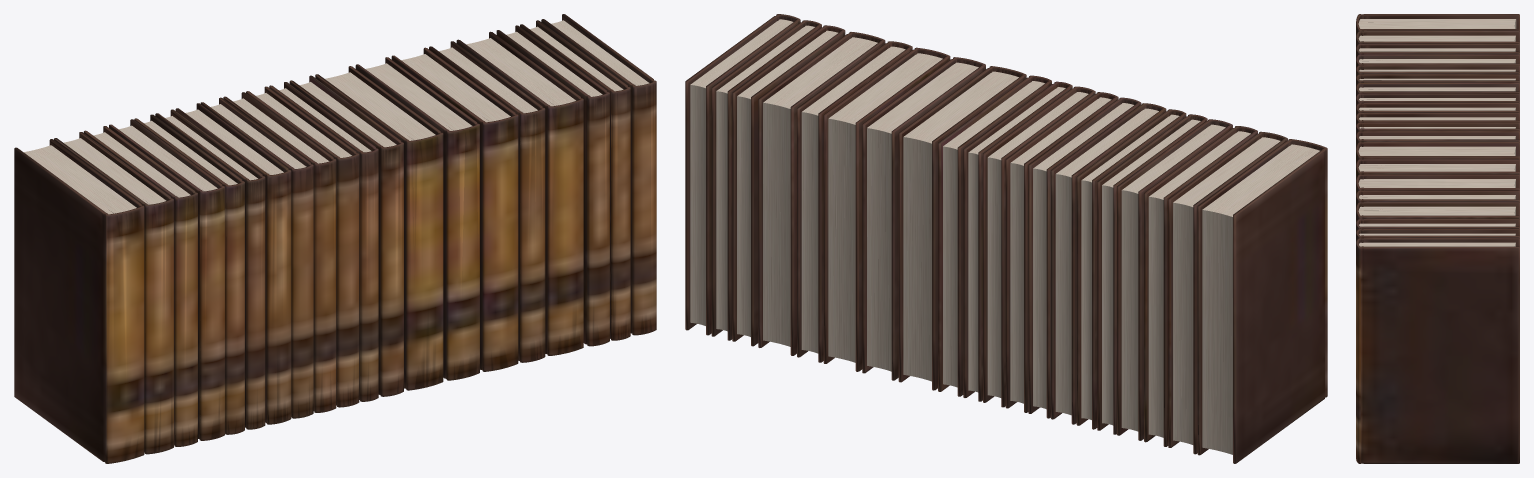
File: books.glb
3 renders of one model, left to right at view 1: azimuth 30°, elevation 25°; view 2: azimuth 150°, elevation 25°; view 3: azimuth 270°, elevation 25°, orthographic. The views are drawn at different scales.
Visible parts, largest first — view 1: book_encyclopedia_set_01_book01, book_encyclopedia_set_01_book13, book_encyclopedia_set_01_book15, book_encyclopedia_set_01_book17, book_encyclopedia_set_01_book14, book_encyclopedia_set_01_book02, book_encyclopedia_set_01_book16, book_encyclopedia_set_01_book04, book_encyclopedia_set_01_book18, book_encyclopedia_set_01_book20, book_encyclopedia_set_01_book07, book_encyclopedia_set_01_book12 (+8 smaller); view 2: book_encyclopedia_set_01_book01, book_encyclopedia_set_01_book13, book_encyclopedia_set_01_book15, book_encyclopedia_set_01_book17, book_encyclopedia_set_01_book14, book_encyclopedia_set_01_book02, book_encyclopedia_set_01_book04, book_encyclopedia_set_01_book16, book_encyclopedia_set_01_book18, book_encyclopedia_set_01_book20, book_encyclopedia_set_01_book07, book_encyclopedia_set_01_book12 (+8 smaller); view 3: book_encyclopedia_set_01_book20, book_encyclopedia_set_01_book13, book_encyclopedia_set_01_book01, book_encyclopedia_set_01_book17, book_encyclopedia_set_01_book15, book_encyclopedia_set_01_book14, book_encyclopedia_set_01_book02, book_encyclopedia_set_01_book16, book_encyclopedia_set_01_book03, book_encyclopedia_set_01_book12, book_encyclopedia_set_01_book07, book_encyclopedia_set_01_book04 (+8 smaller).
Boxes of the visible parts, bbox=[...] form: book_encyclopedia_set_01_book01: bbox=[14, 139, 144, 463]; book_encyclopedia_set_01_book13: bbox=[315, 66, 443, 390]; book_encyclopedia_set_01_book15: bbox=[391, 47, 518, 371]; book_encyclopedia_set_01_book17: bbox=[456, 31, 583, 355]; book_encyclopedia_set_01_book14: bbox=[355, 57, 479, 380]; book_encyclopedia_set_01_book02: bbox=[54, 132, 173, 454]; book_encyclopedia_set_01_book16: bbox=[429, 41, 545, 362]; book_encyclopedia_set_01_book04: bbox=[109, 119, 224, 440]; book_encyclopedia_set_01_book18: bbox=[496, 25, 609, 346]; book_encyclopedia_set_01_book20: bbox=[541, 14, 656, 335]; book_encyclopedia_set_01_book07: bbox=[175, 103, 291, 424]; book_encyclopedia_set_01_book12: bbox=[289, 75, 403, 396]; book_encyclopedia_set_01_book01: bbox=[1197, 139, 1327, 463]; book_encyclopedia_set_01_book13: bbox=[898, 66, 1026, 390]; book_encyclopedia_set_01_book15: bbox=[823, 47, 950, 371]; book_encyclopedia_set_01_book17: bbox=[758, 32, 885, 355]; book_encyclopedia_set_01_book14: bbox=[862, 57, 985, 380]; book_encyclopedia_set_01_book02: bbox=[1168, 131, 1287, 454]; book_encyclopedia_set_01_book04: bbox=[1117, 119, 1232, 440]; book_encyclopedia_set_01_book16: bbox=[797, 41, 912, 362]; book_encyclopedia_set_01_book18: bbox=[732, 25, 845, 346]; book_encyclopedia_set_01_book20: bbox=[685, 14, 800, 335]; book_encyclopedia_set_01_book07: bbox=[1051, 103, 1166, 424]; book_encyclopedia_set_01_book12: bbox=[938, 75, 1051, 396]; book_encyclopedia_set_01_book20: bbox=[1356, 238, 1519, 463]; book_encyclopedia_set_01_book13: bbox=[1356, 142, 1519, 165]; book_encyclopedia_set_01_book01: bbox=[1356, 14, 1519, 35]; book_encyclopedia_set_01_book17: bbox=[1356, 202, 1519, 221]; book_encyclopedia_set_01_book15: bbox=[1356, 174, 1519, 194]; book_encyclopedia_set_01_book14: bbox=[1356, 159, 1519, 180]; book_encyclopedia_set_01_book02: bbox=[1356, 30, 1519, 47]; book_encyclopedia_set_01_book16: bbox=[1356, 190, 1519, 222]; book_encyclopedia_set_01_book03: bbox=[1356, 43, 1519, 58]; book_encyclopedia_set_01_book12: bbox=[1356, 131, 1519, 149]; book_encyclopedia_set_01_book07: bbox=[1356, 82, 1519, 96]; book_encyclopedia_set_01_book04: bbox=[1356, 54, 1519, 68].
Bounding box in the file's own units: 0.5513 × 0.2374 × 0.1631.
2 materials, 2 textured.
